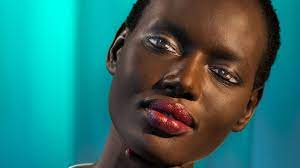face: (127, 19, 260, 168)
